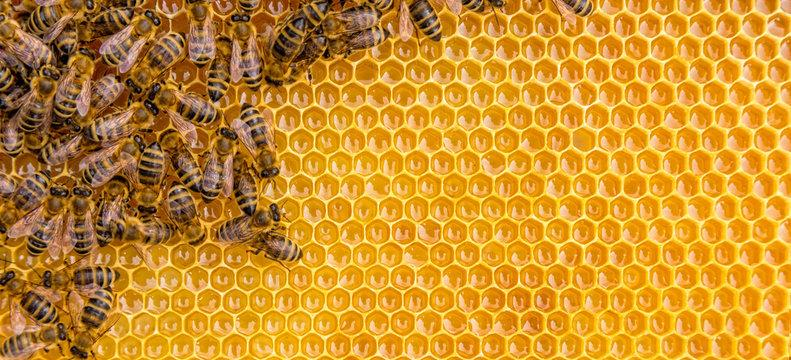worker-bee: (9, 183, 69, 256), (147, 82, 220, 141), (99, 10, 160, 72), (68, 286, 119, 358), (0, 270, 59, 332), (7, 63, 59, 133), (231, 103, 279, 178), (126, 32, 185, 93), (79, 134, 145, 187), (83, 100, 158, 145), (50, 182, 96, 255), (110, 214, 175, 265), (0, 12, 54, 68), (265, 15, 307, 85), (54, 49, 93, 121), (26, 0, 94, 41), (227, 13, 262, 89), (201, 127, 236, 202), (216, 203, 281, 242), (165, 182, 205, 244), (0, 323, 66, 359), (315, 5, 381, 38), (136, 142, 166, 213), (324, 26, 388, 57), (41, 265, 119, 290), (187, 0, 215, 65), (207, 36, 231, 101)
